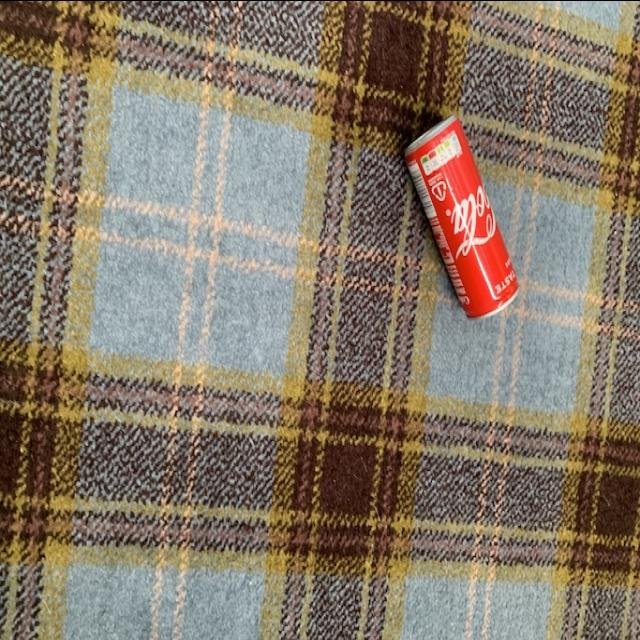litter: (401, 115, 520, 329)
